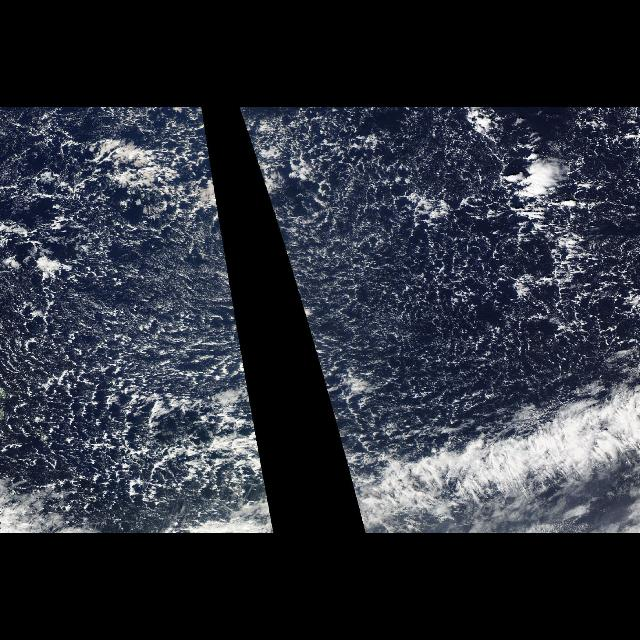Fish: (325, 383, 637, 533), (204, 383, 276, 533)
Gravel: (240, 113, 634, 429), (0, 113, 256, 531), (168, 437, 266, 481), (339, 437, 363, 481)
Sugar: (81, 217, 249, 391), (273, 217, 383, 391)
